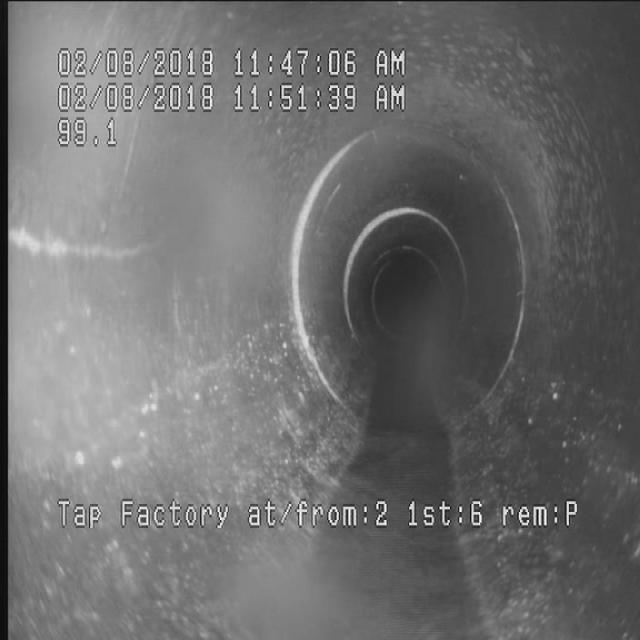Crack: (19, 194, 171, 288)
